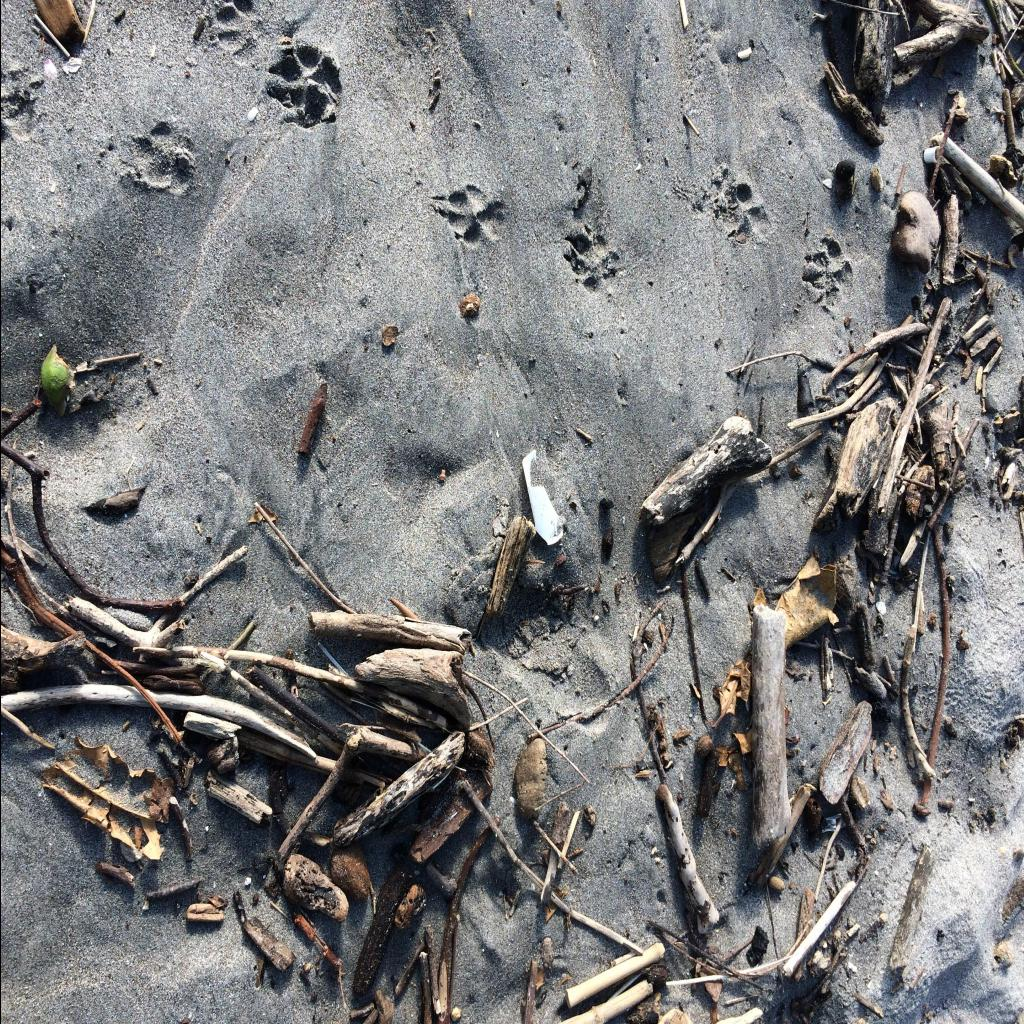Other plastic bottle: (521, 450, 562, 546)
Plastic bottle cap: (922, 146, 940, 164)
